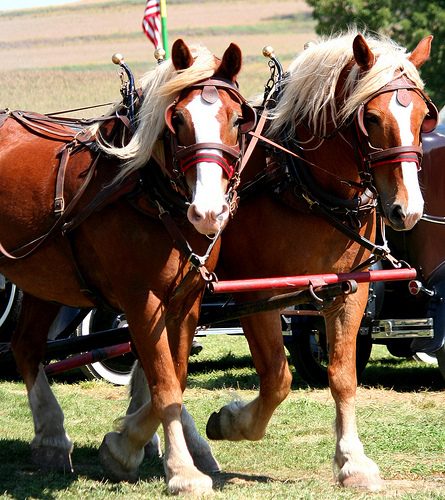horse: (1, 37, 253, 491), (198, 21, 437, 494)
